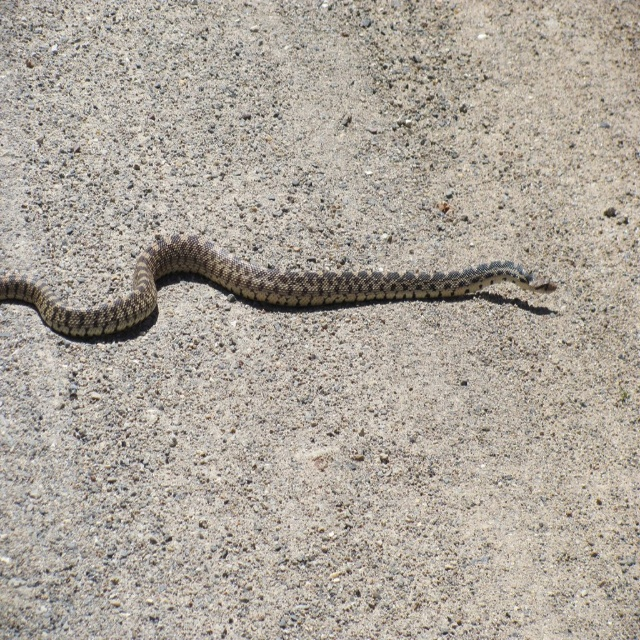Snake: (0, 221, 556, 365)
